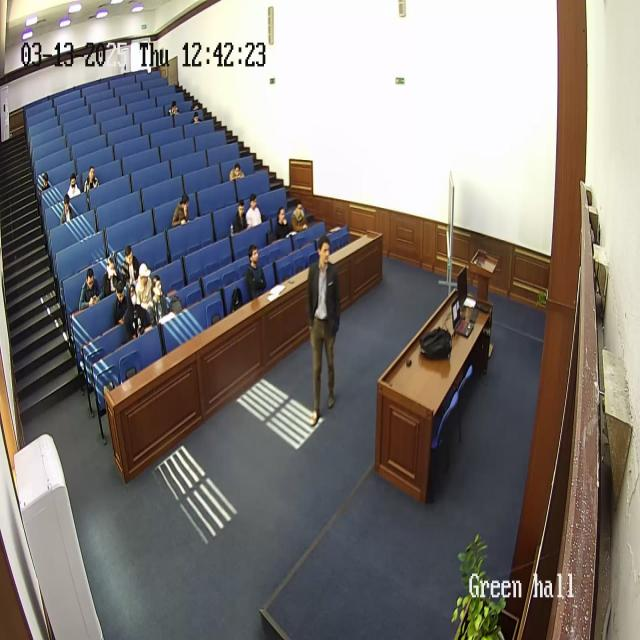person: (306, 232, 340, 420), (146, 273, 172, 327), (244, 244, 267, 298), (124, 292, 147, 342), (78, 266, 102, 309), (111, 281, 132, 328), (134, 262, 154, 310), (103, 253, 123, 296), (121, 244, 140, 284), (245, 193, 263, 229), (59, 191, 78, 225), (172, 193, 190, 228), (274, 205, 292, 240), (290, 199, 308, 232), (233, 197, 249, 234), (67, 171, 83, 201), (85, 164, 99, 194), (228, 162, 244, 181), (189, 101, 203, 122), (39, 171, 51, 192), (169, 100, 179, 118)
